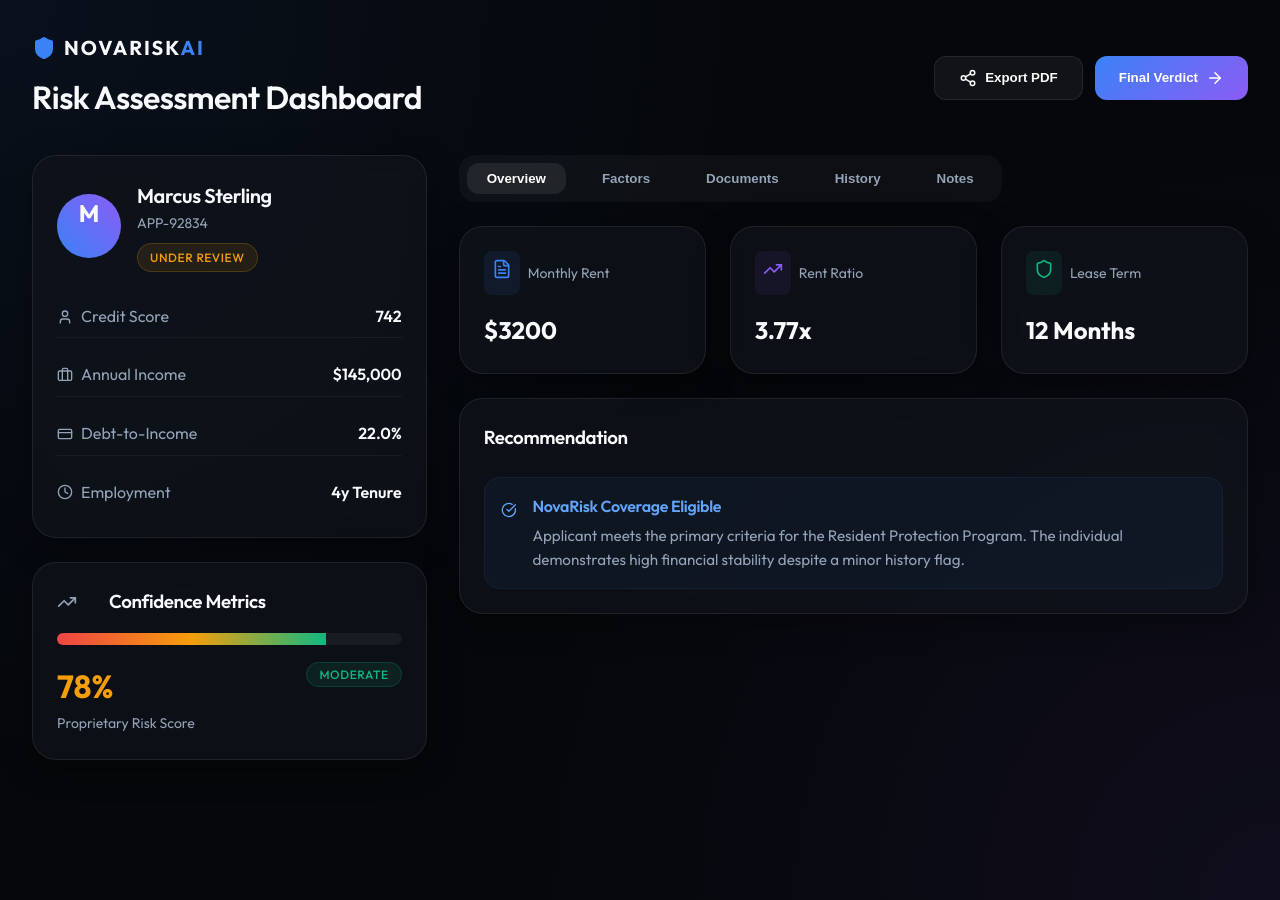
Test: RiskAssessmentDashboard › switches tabs when clicked
Check: the heading "Recommendation" is shown, box [484,425,628,449]
// Click on Factors tab
Click the button "factors". click: {"x": 626, "y": 179}
box: [582,163,670,194]
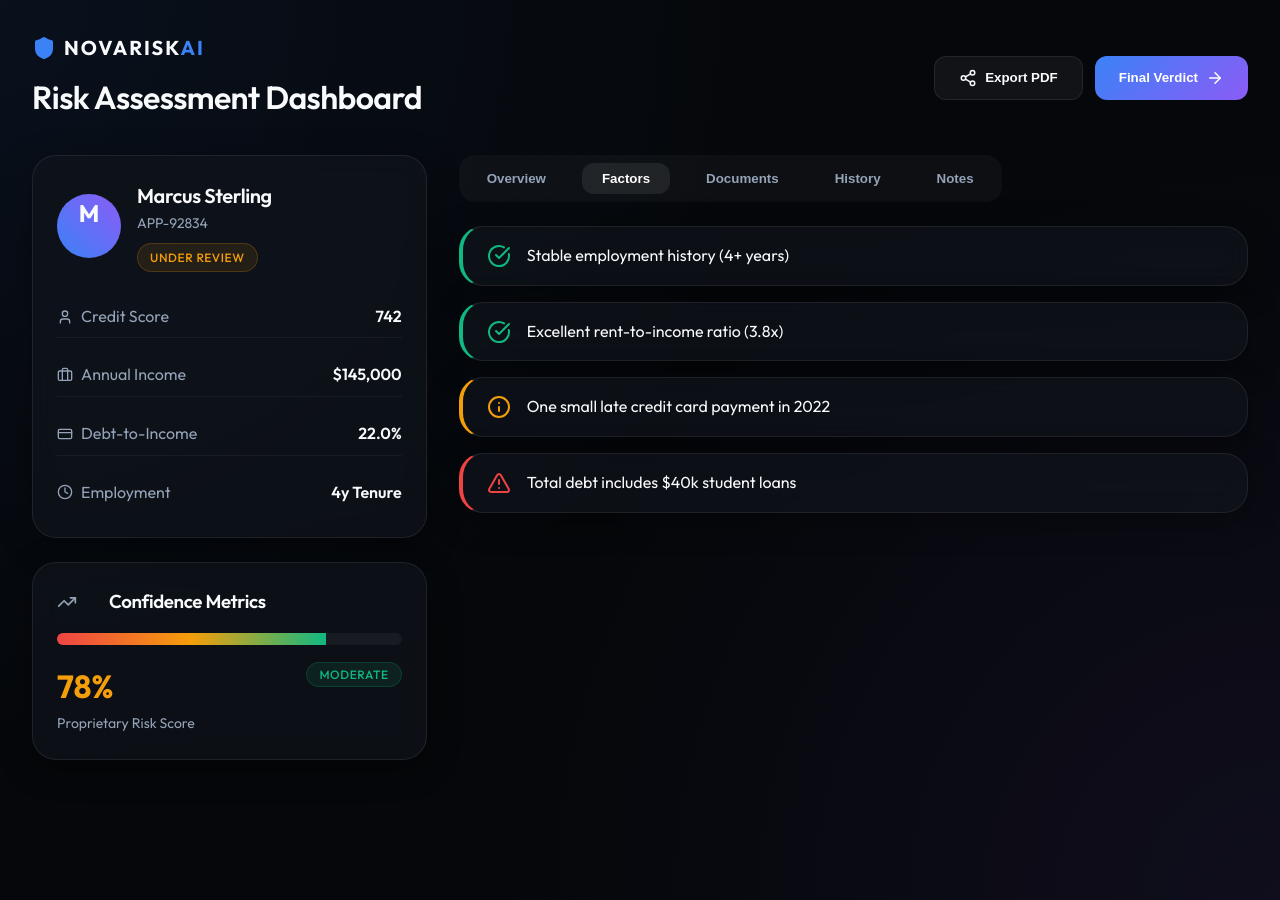
Check: the text "Stable employment history (4+ years)" is shown, box [527,243,789,269]
